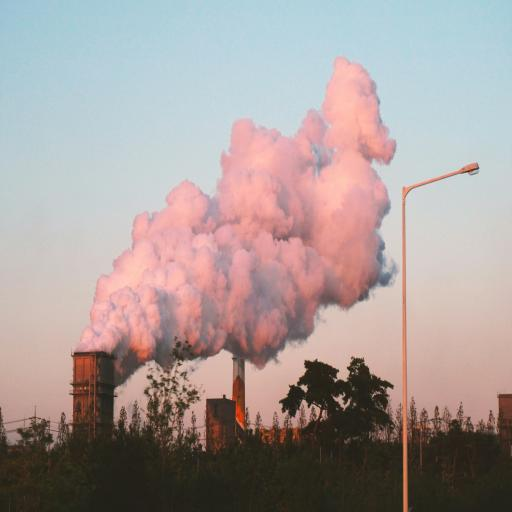smoke: (40, 109, 462, 368), (289, 28, 404, 176)
